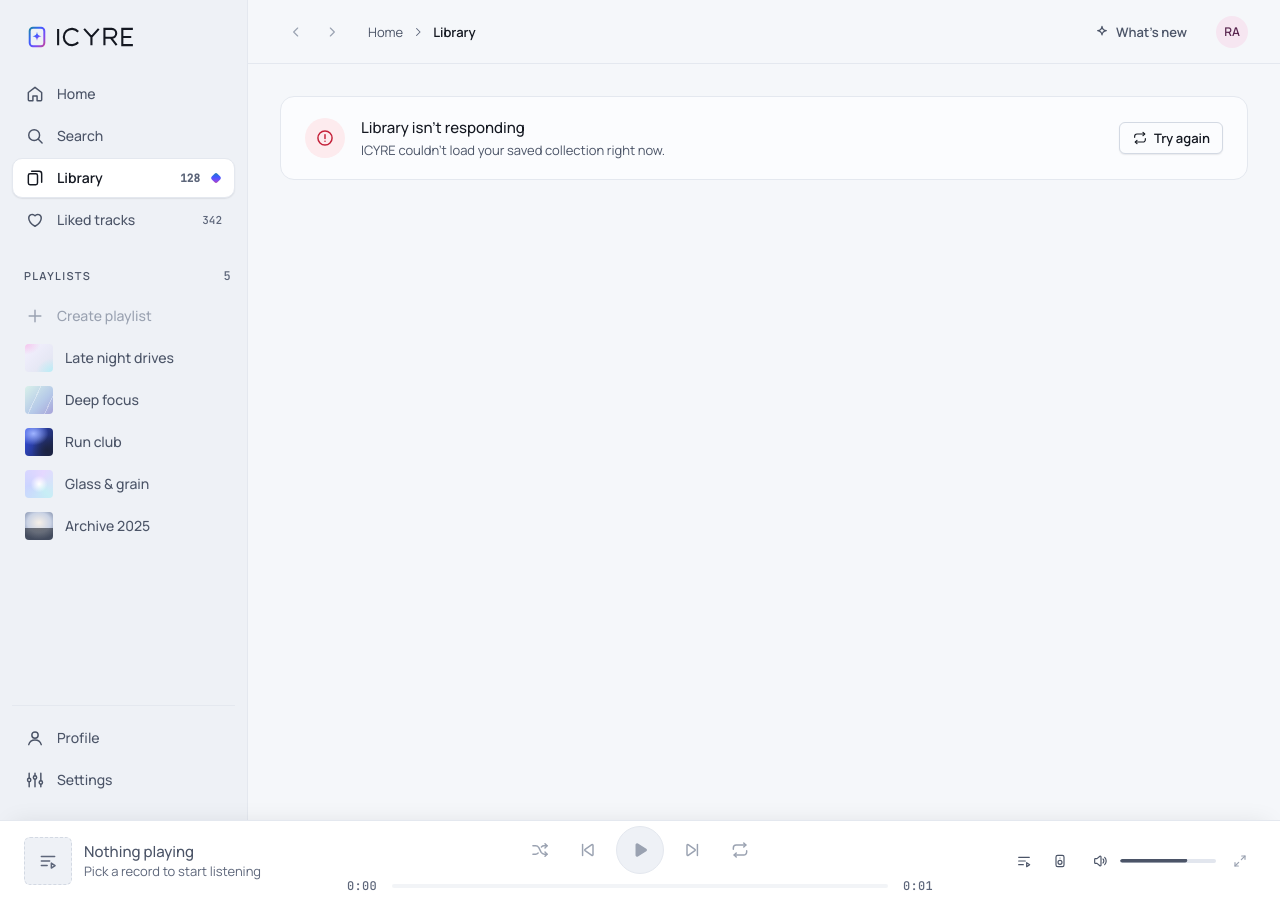
it: Library screen › shows error alert with retry when library upstream fails
Expected: the text "Library isn't responding" is shown, [361,117,525,138]
Click the button "Try again" at coordinates (1171, 138), box [1119,122,1223,154]
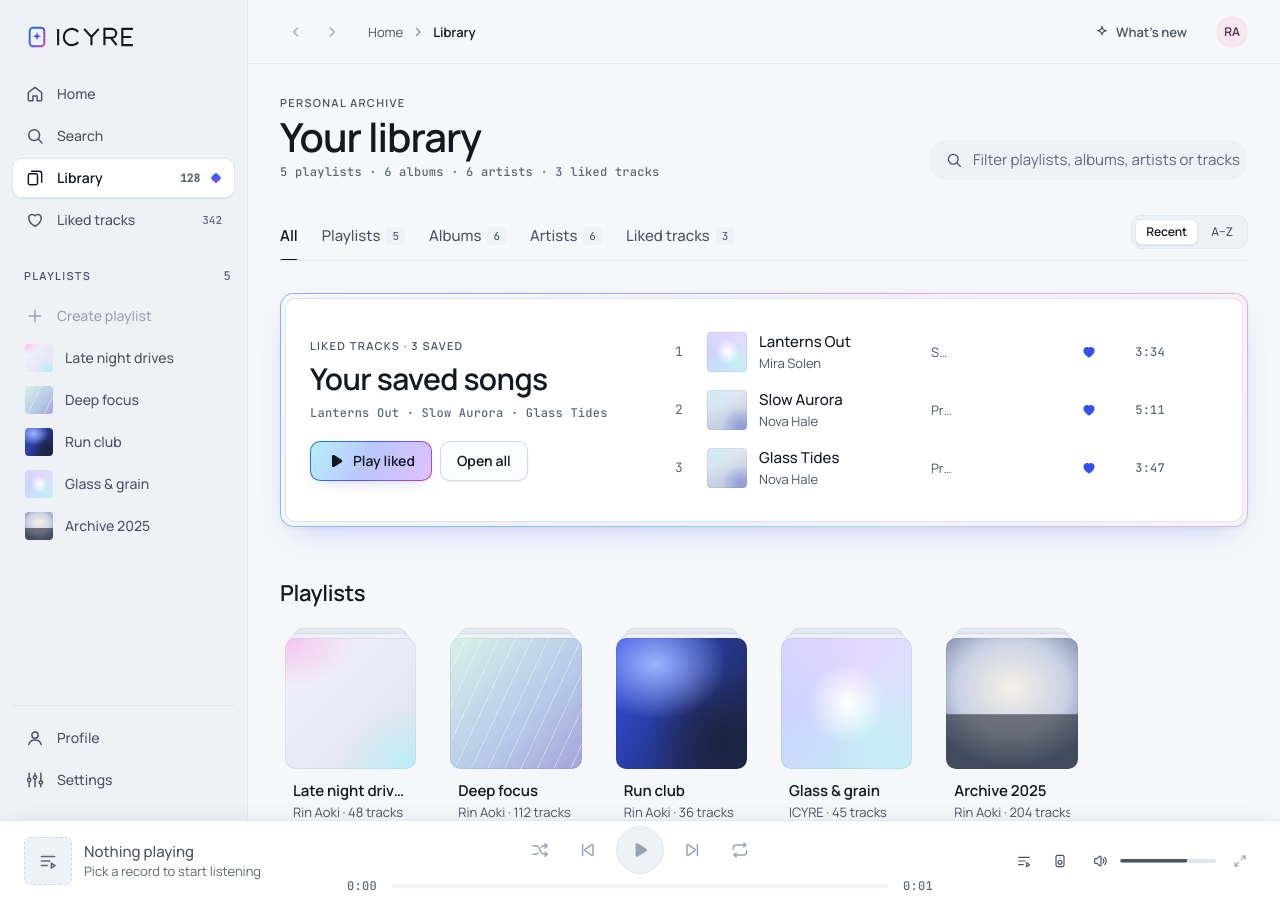
Result: the heading "Your library" is shown at [280,109,481,164]
